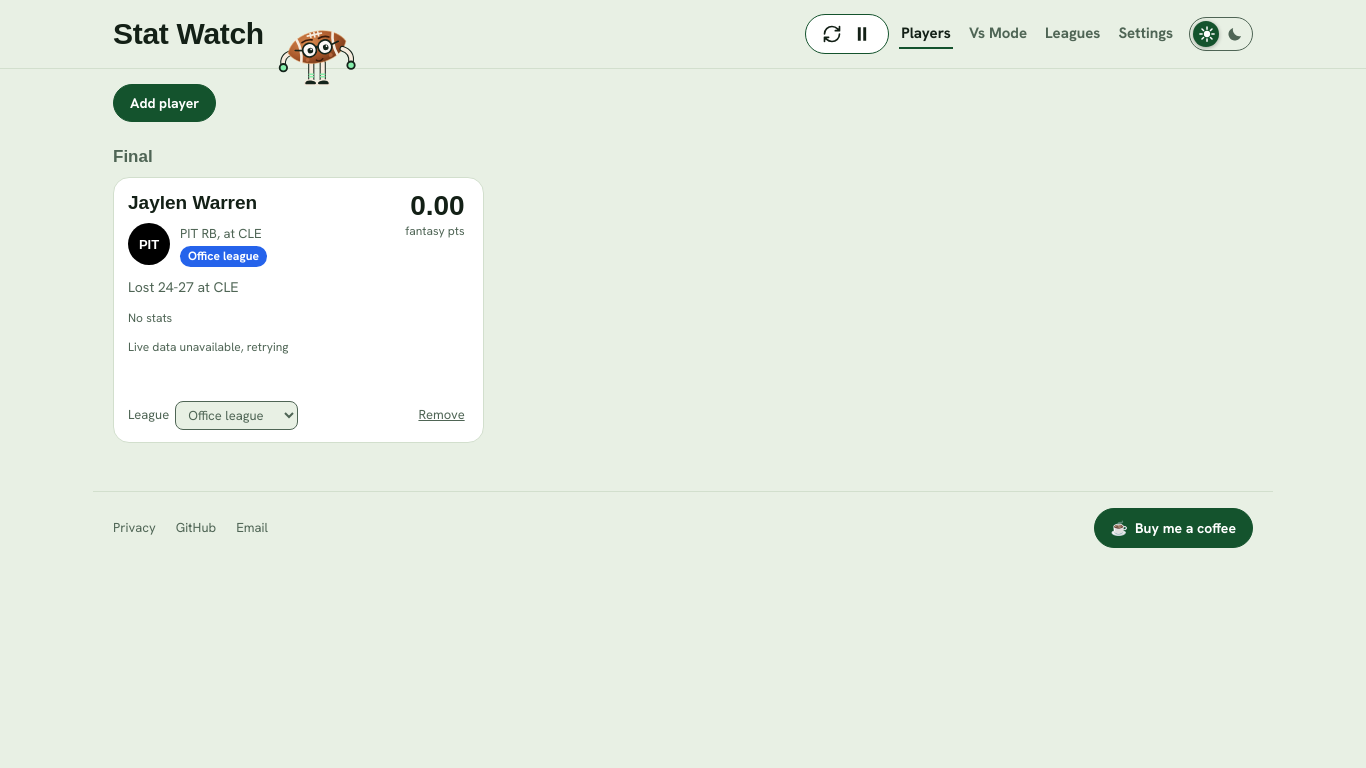
Test: closing a dialog from the backdrop › closes when the dimmed area is clicked
Click the button "Add player" at {"x": 165, "y": 103}, box [113,84,216,122]
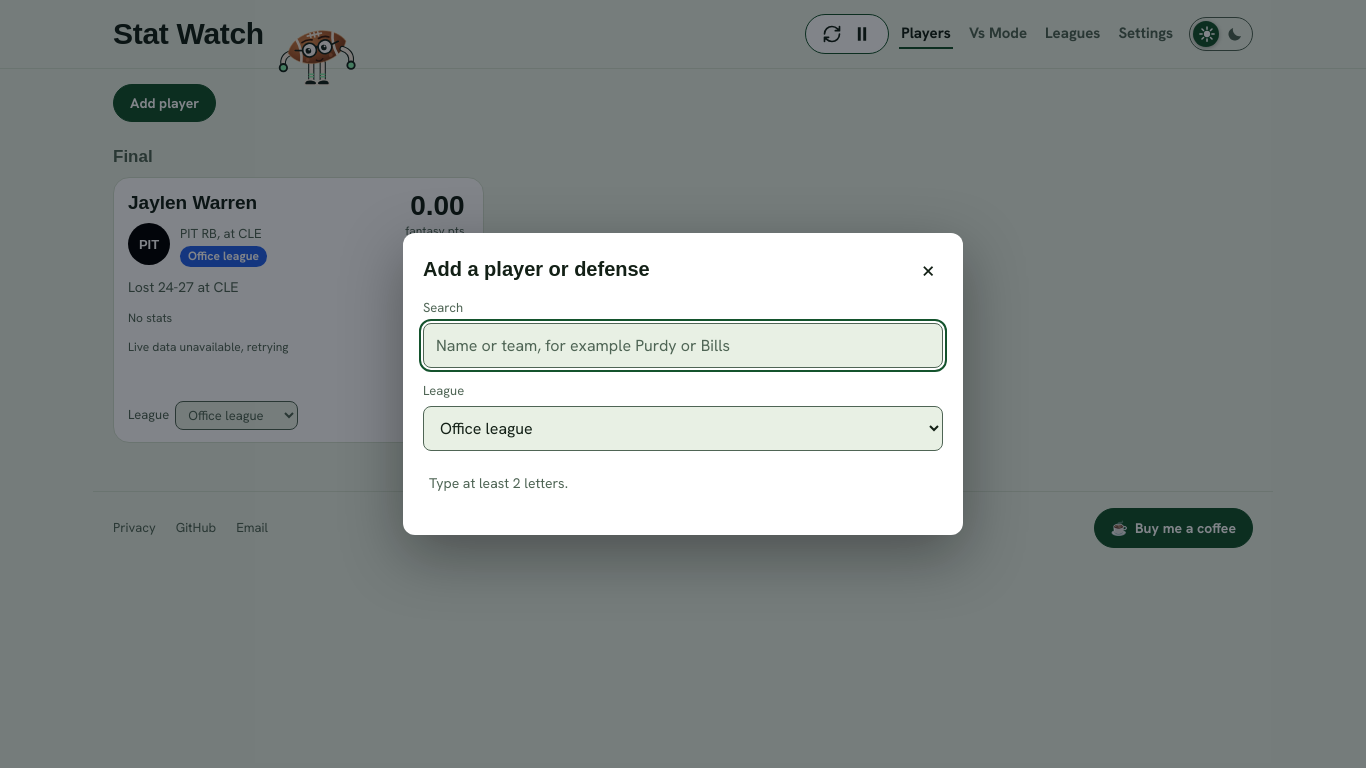
Click the dialog "Add a player or defense" at {"x": 683, "y": 384}, box [403,233,963,535]
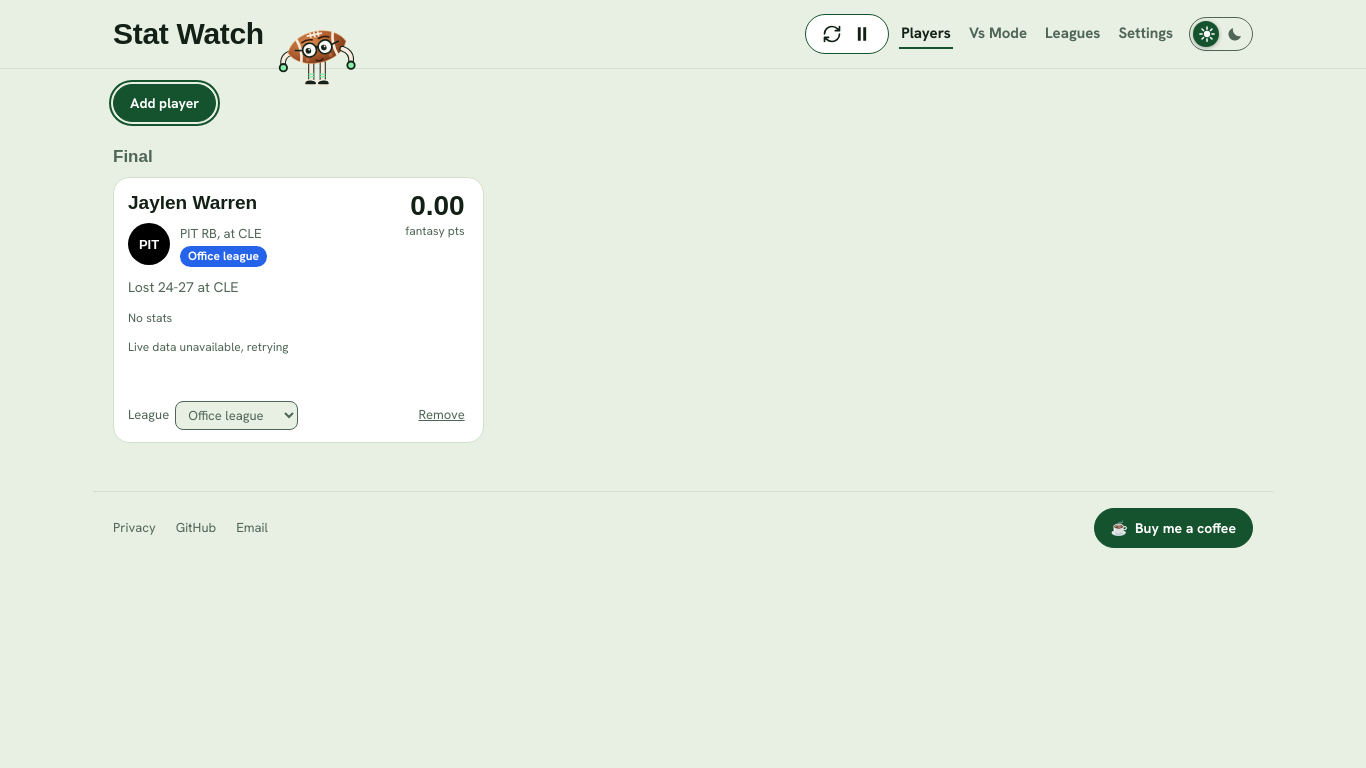
Check: the dialog is gone
